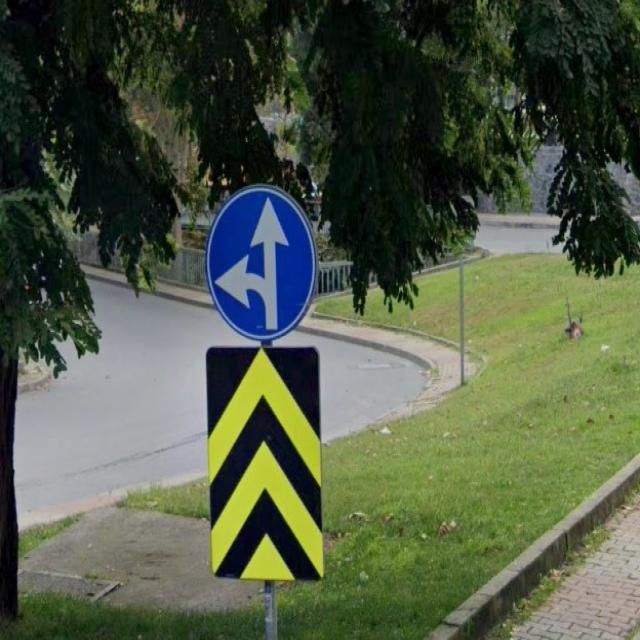ilerisol: (205, 182, 315, 342)
